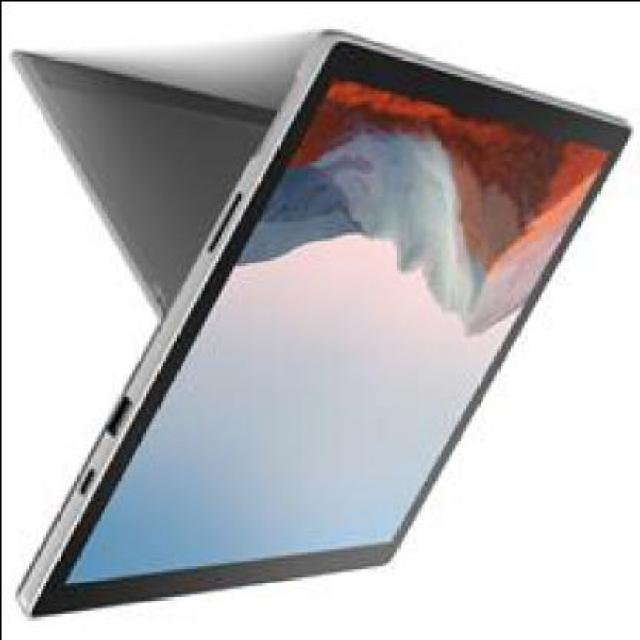tablet: (2, 6, 607, 628)
